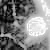node: (21, 14, 50, 39)
